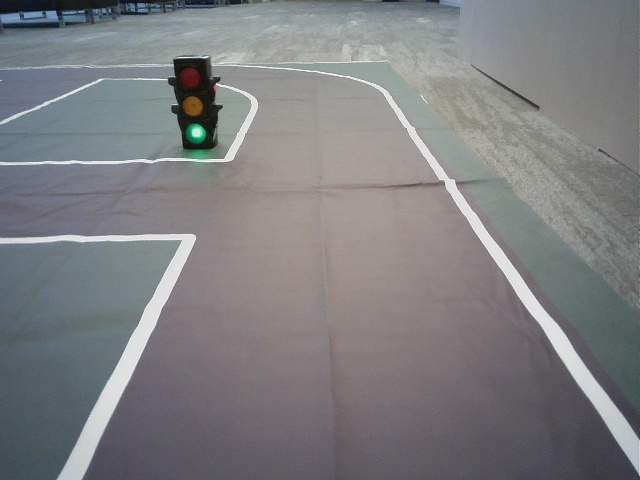green: (175, 59, 208, 146)
